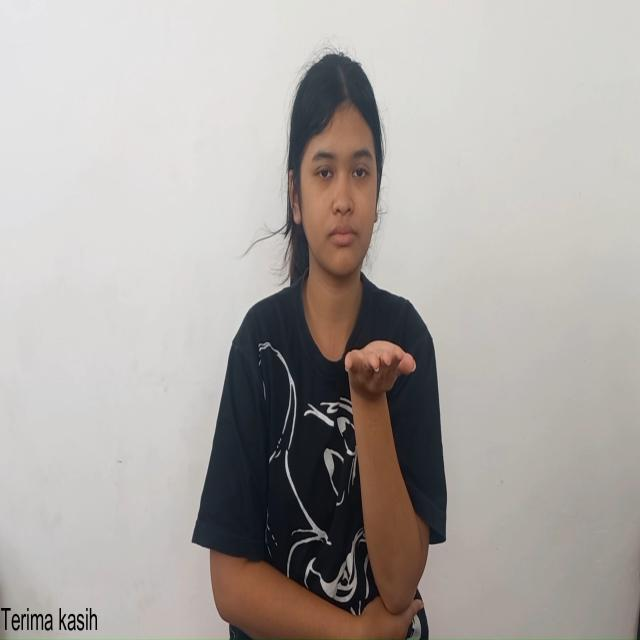Terima kasih -BISINDO-: (316, 320, 428, 548)
